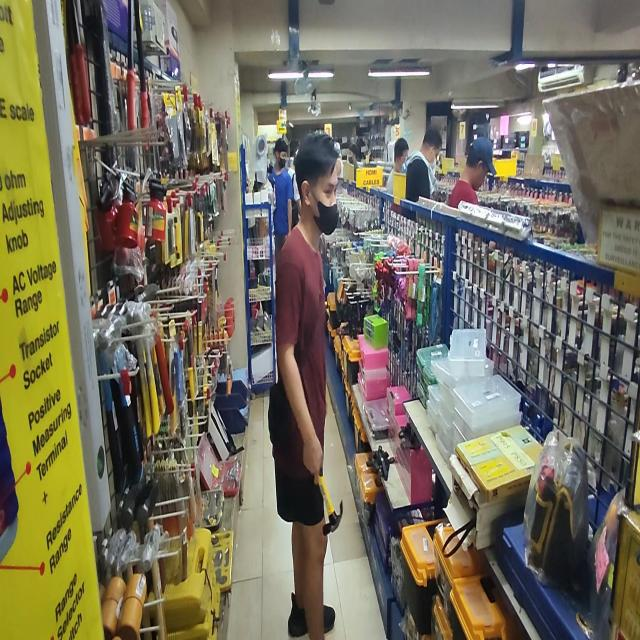hammer: (316, 469, 343, 536)
